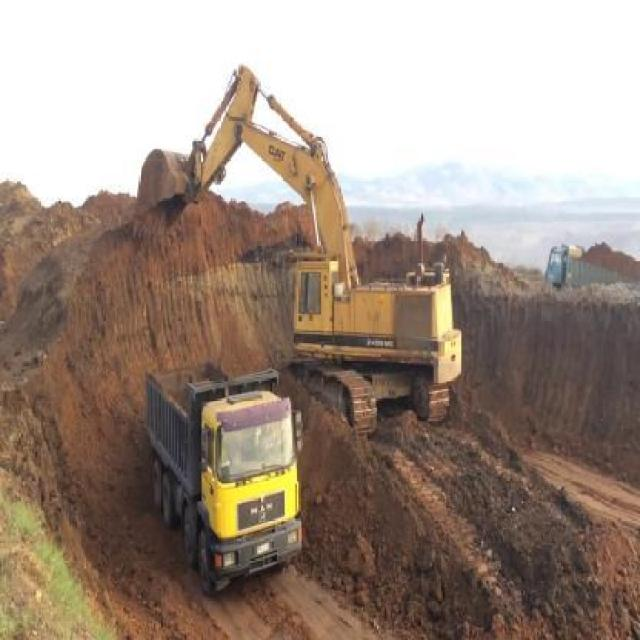dump_truck: (143, 358, 306, 593), (539, 232, 636, 290)
excavator: (134, 61, 469, 425)
